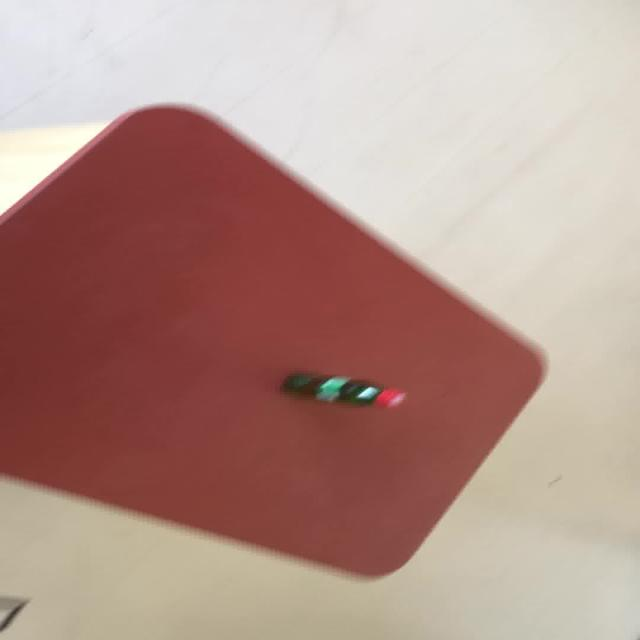guarana: (1, 101, 549, 578), (280, 371, 406, 408)
